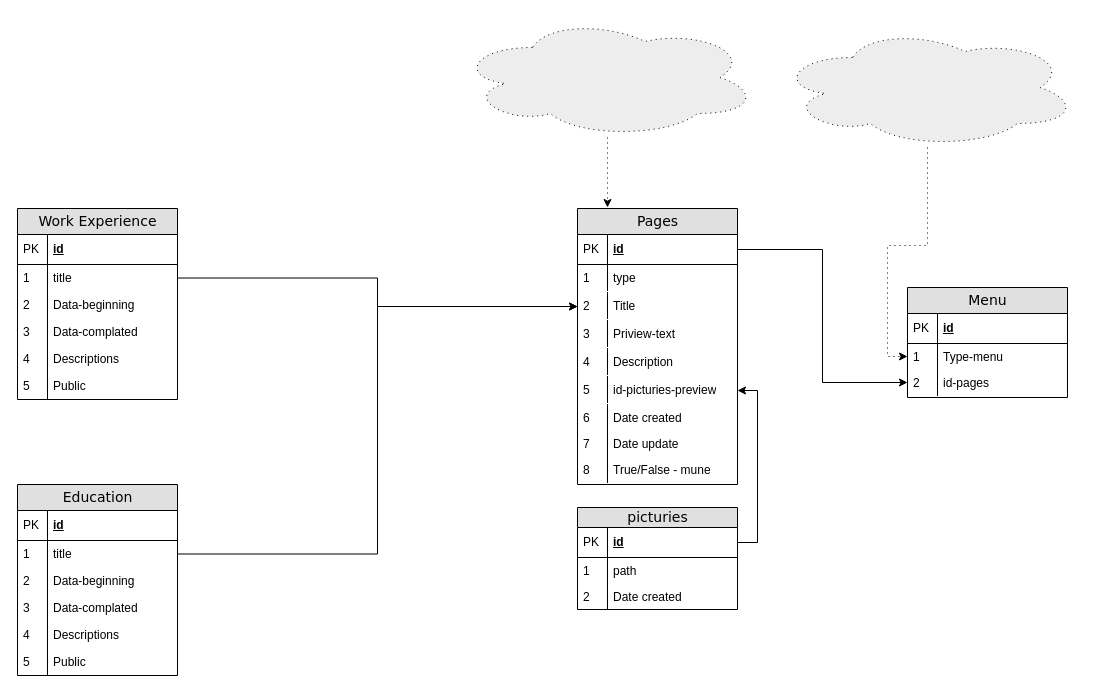
Image size: 1095x696. Some labels were removed from this diagram. Each missing label, with the centre of its shape:
"Ия категорий Parents (родительская) Child (подкатегория)" goes at point (927, 87).
"Категории Страница, Запись/статья, Главная" goes at point (607, 77).
